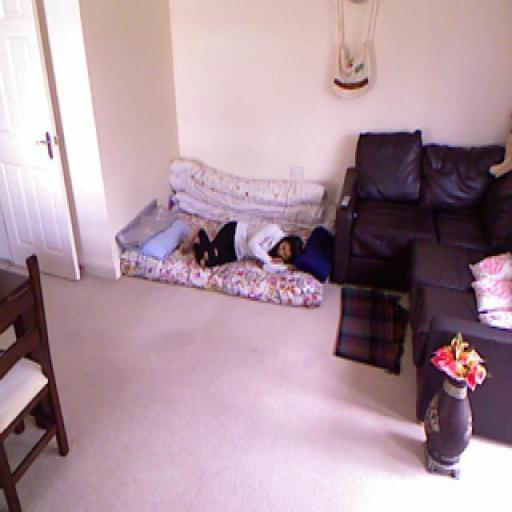Fall: (179, 220, 304, 274)
